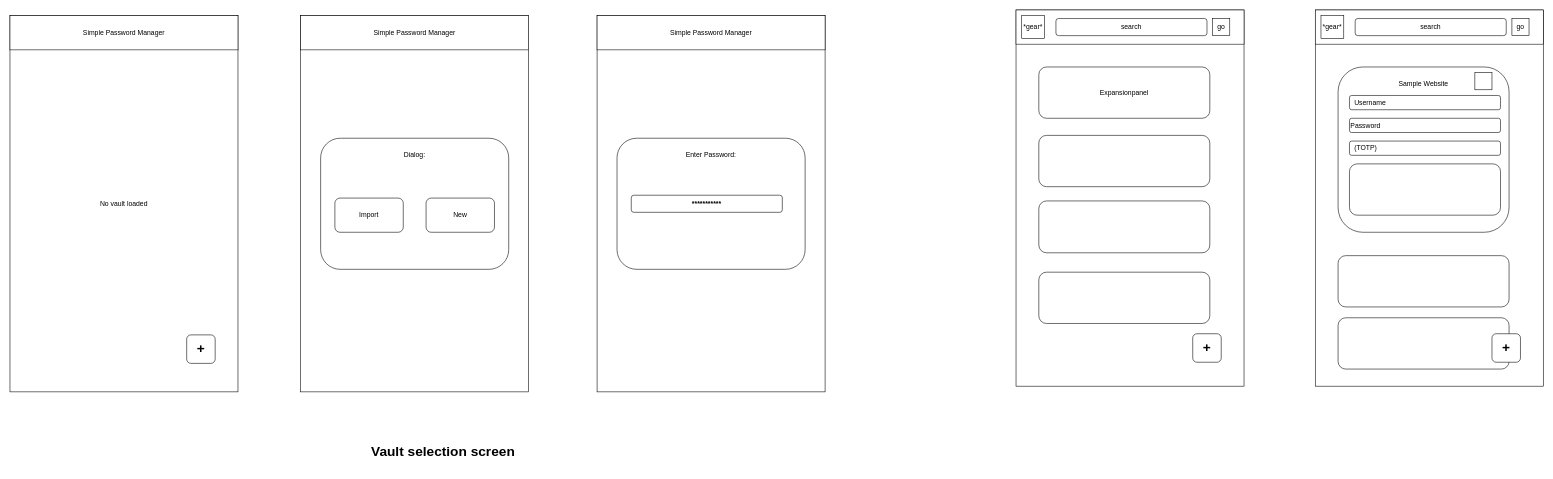
Some shapes in this 1553 by 479 pixel diagram are drawn without their labels. Here are the shapes that lost their labels. From the top down, the centre of each, then its label:
point (1483, 81): dots
point (1425, 189): Description
